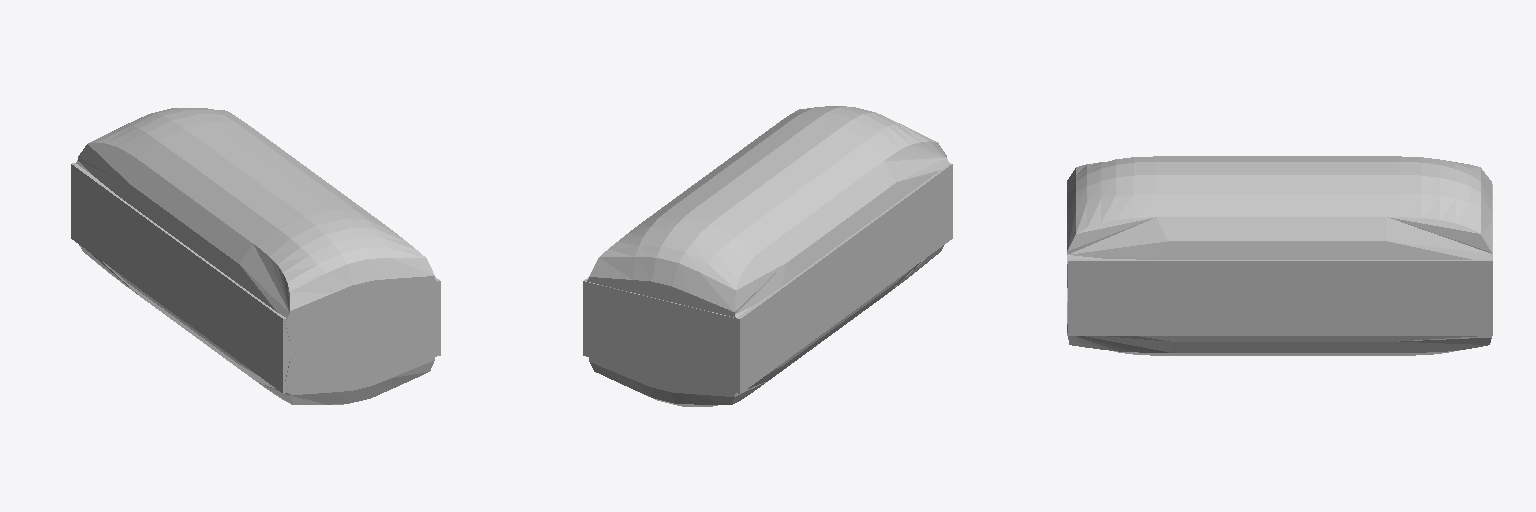
The model's file is Base Beats.obj.
3 renders of one model, left to right at view 1: azimuth 30°, elevation 25°; view 2: azimuth 150°, elevation 25°; view 3: azimuth 270°, elevation 25°, orthographic.
Parts seen in each view (by area): view 1: Box001; view 2: Box001; view 3: Box001.
Part boxes in pixels (x1,y1,x2,y2): Box001: (71,108,440,404); Box001: (583,106,952,406); Box001: (1067,156,1492,355).
Bounding box in the file's own units: 15.81 × 16.89 × 37.04.